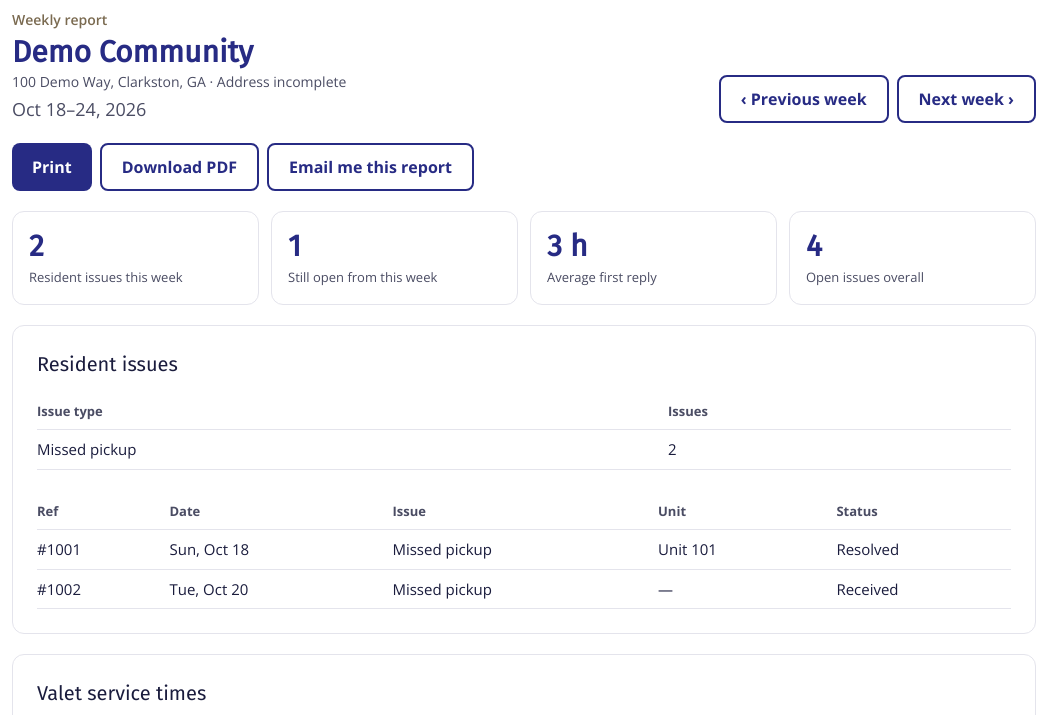
Test: WeeklyReportPage › moves between weeks
The width and height of the screenshot is (1048, 715).
Step 1. Click the button "‹ Previous week" → (804, 99), box [719,75,889,123]
(page scrolled)
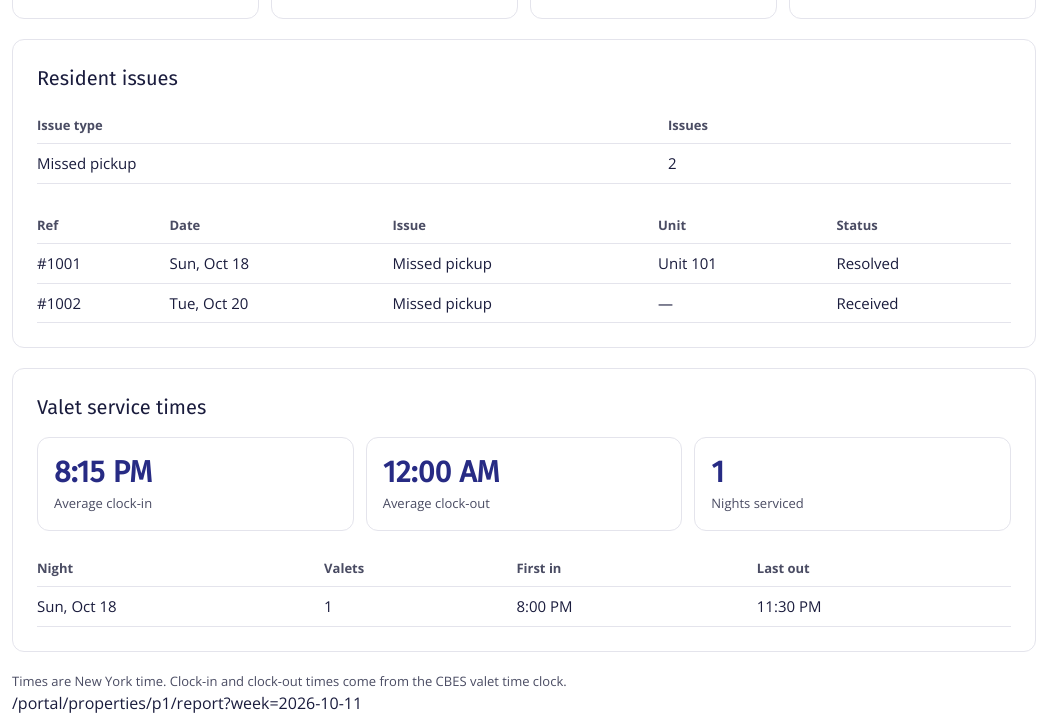
Expected: the text with test id "location" reads "/portal/properties/p1/report?week=2026-10-11", [12,692,362,714]
